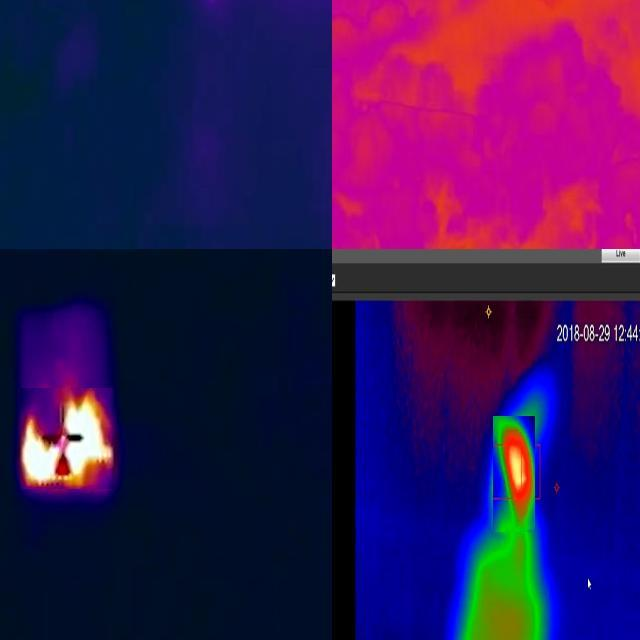fire: (20, 388, 114, 489), (493, 416, 535, 532)
